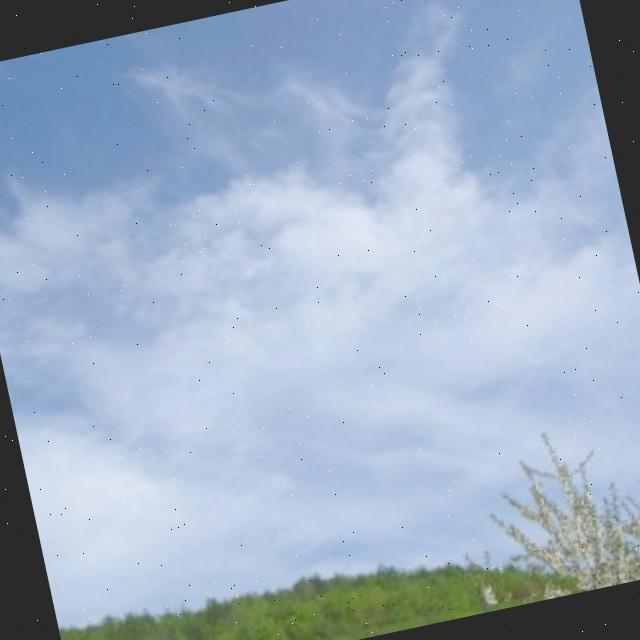Ci: (1, 1, 640, 511)
